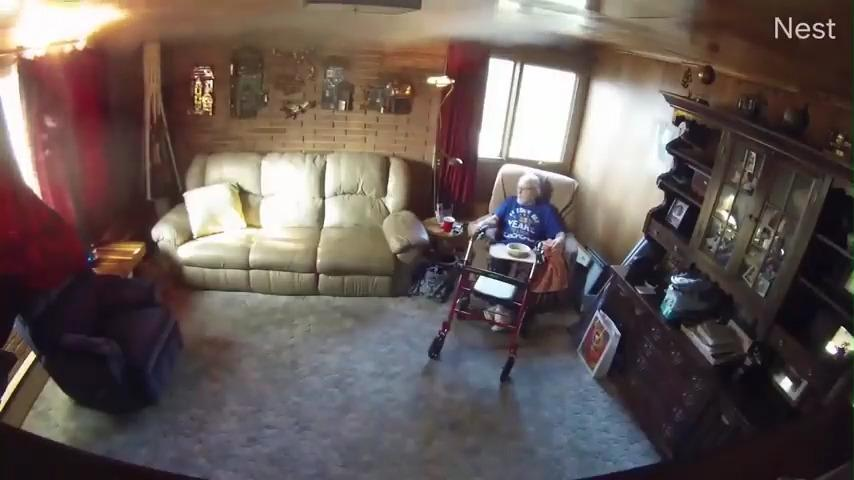fire: (10, 7, 128, 60)
